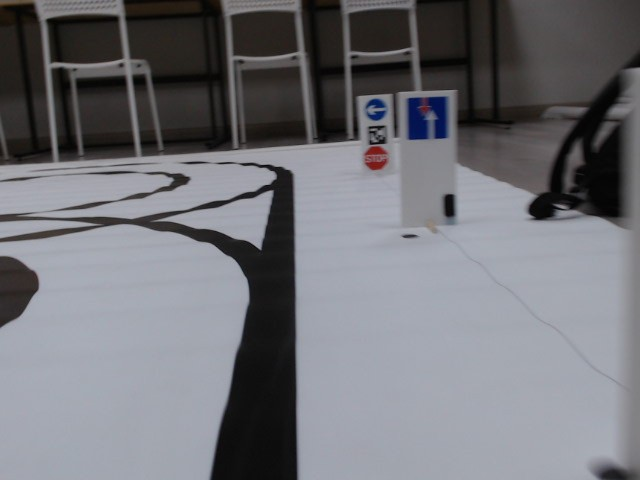Stop: (363, 145, 389, 171)
priority_movement: (403, 94, 451, 140)
